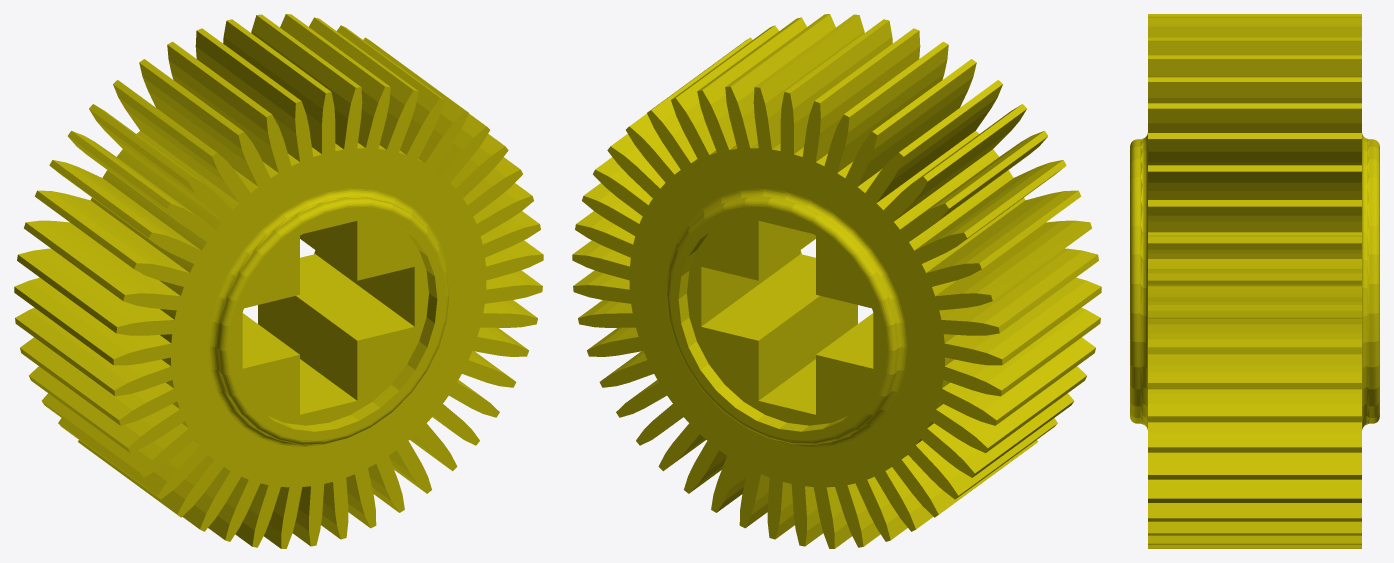
The model's file is BanhRang_LoChuThap_Nho.glb.
The picture shows the model from 3 angles, left to right: view 1: azimuth 30°, elevation 25°; view 2: azimuth 150°, elevation 25°; view 3: azimuth 270°, elevation 25°; orthographic projection. The views are drawn at different scales.
Visible parts, largest first — view 1: BanhRang_LoChuThap_Nho; view 2: BanhRang_LoChuThap_Nho; view 3: BanhRang_LoChuThap_Nho.
Part boxes in pixels (bbox=[...]): BanhRang_LoChuThap_Nho: bbox=[14, 14, 543, 548]; BanhRang_LoChuThap_Nho: bbox=[572, 14, 1101, 548]; BanhRang_LoChuThap_Nho: bbox=[1130, 14, 1379, 548].
Bounding box in the file's own units: 30.51 × 30.49 × 14.24.
